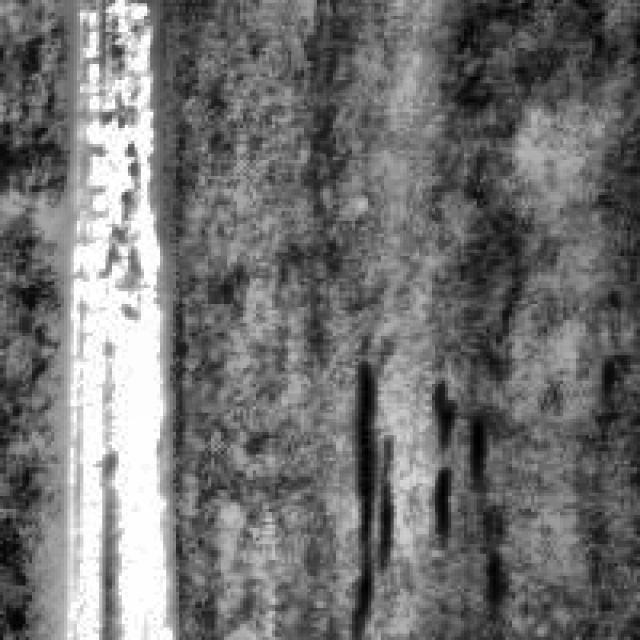Inclusion: (51, 0, 173, 634)
Patches: (339, 356, 403, 636), (422, 368, 487, 550)
